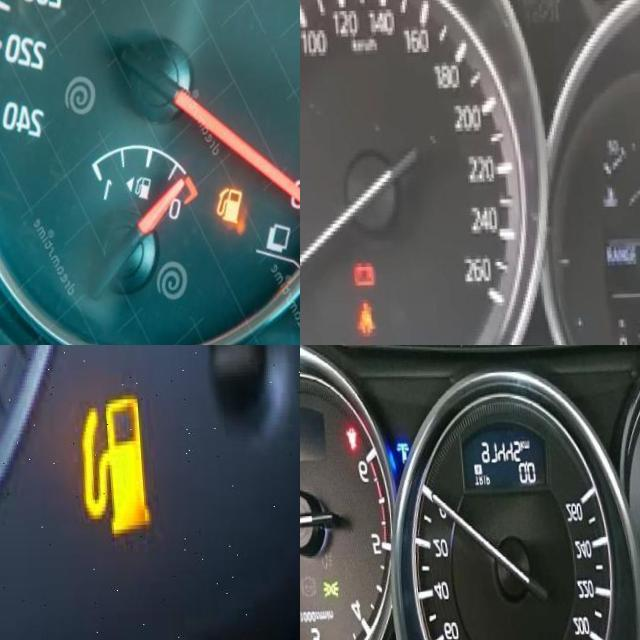Seat Belt: (349, 303, 369, 338), (344, 427, 357, 453)
